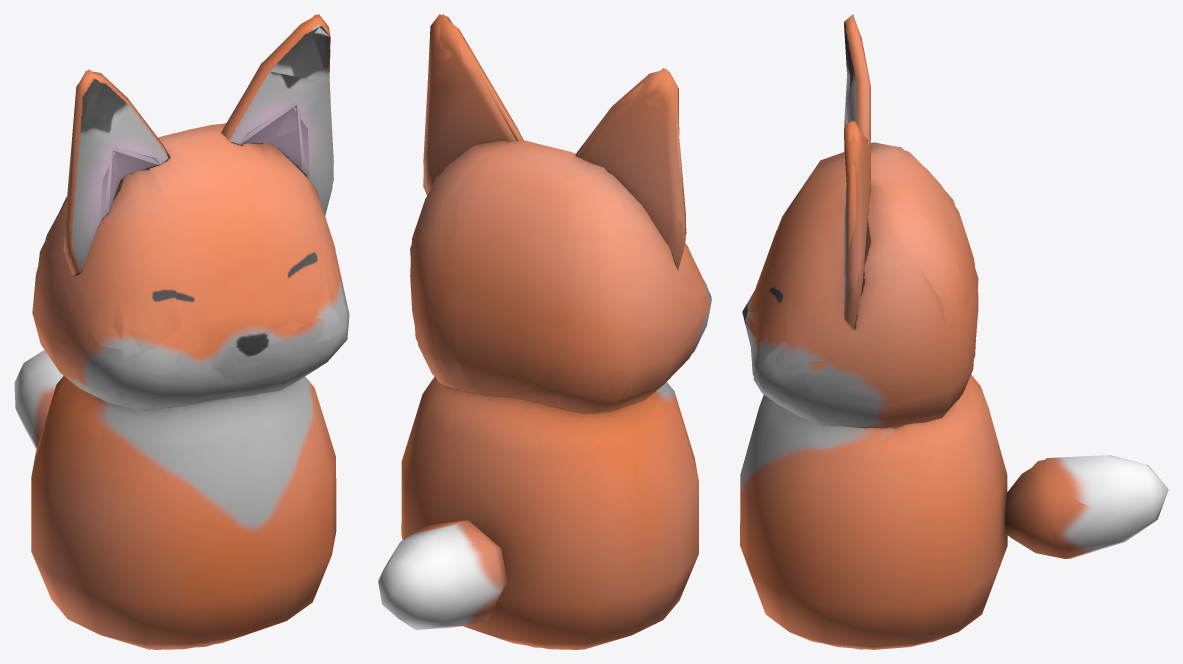
File: Fox Plushie.fbx
3 views of the same model, side by side, from view 1: azimuth 30°, elevation 25°; view 2: azimuth 150°, elevation 25°; view 3: azimuth 270°, elevation 25° (orthographic). The views are drawn at different scales.
Parts seen in each view (by area): view 1: Fox Plushie, Fox PlushieLOD; view 2: Fox Plushie, Fox PlushieLOD; view 3: Fox Plushie, Fox PlushieLOD.
Part boxes in pixels (left/top/right/bottom): Fox Plushie: left=16, top=14, right=348, bottom=649; Fox PlushieLOD: left=14, top=14, right=349, bottom=649; Fox Plushie: left=378, top=14, right=711, bottom=649; Fox PlushieLOD: left=379, top=14, right=711, bottom=649; Fox Plushie: left=740, top=14, right=1168, bottom=649; Fox PlushieLOD: left=740, top=15, right=1157, bottom=649.
Size of what is drawn, in the model's own units: 338 by 237 by 487.
